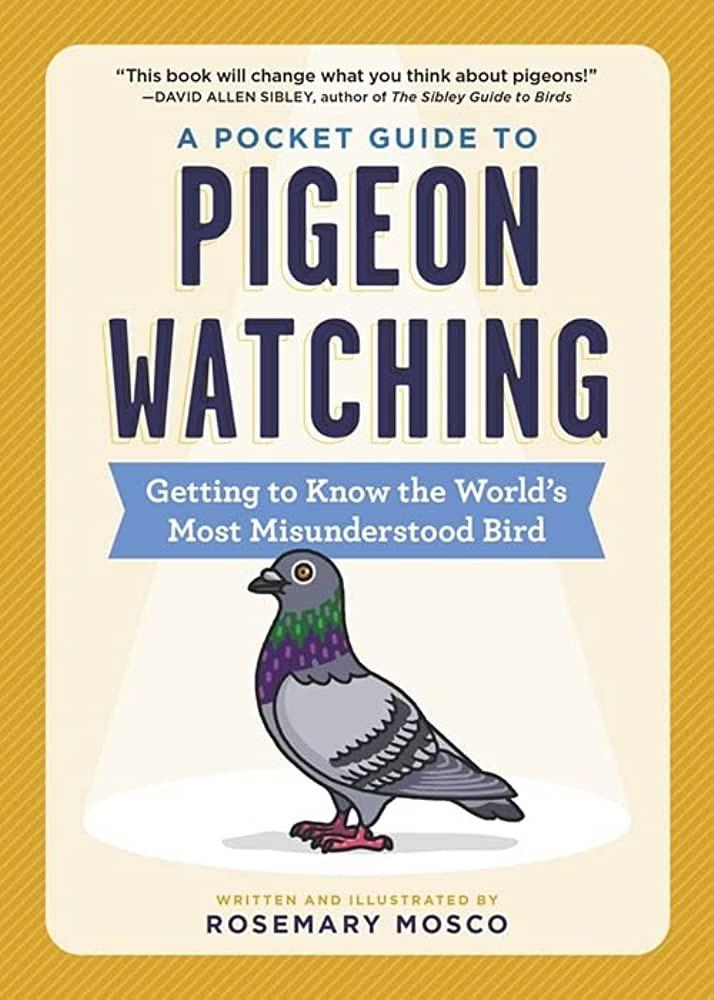Flying Rat: (245, 555, 541, 866)
